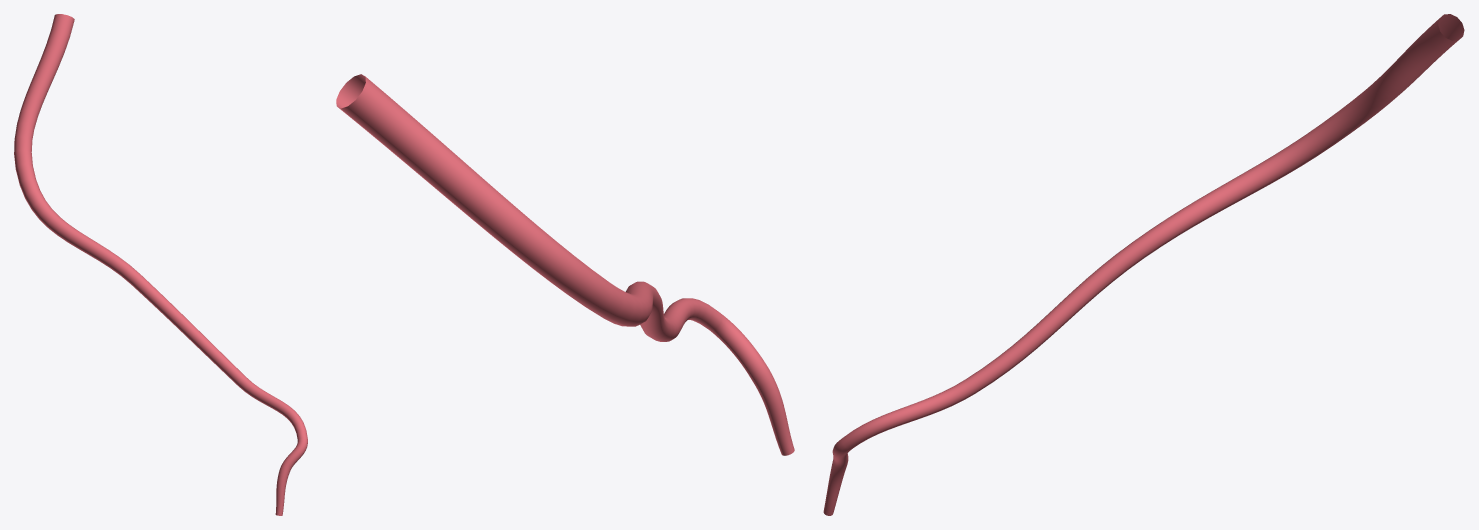
3 views of the same model, side by side, from view 1: azimuth 30°, elevation 25°; view 2: azimuth 150°, elevation 25°; view 3: azimuth 270°, elevation 25° (orthographic). The views are drawn at different scales.
Visible parts, largest first — view 1: ZA_7803f0b04026fef3; view 2: ZA_7803f0b04026fef3; view 3: ZA_7803f0b04026fef3.
Part boxes in pixels (x1,y1,x2,y2): ZA_7803f0b04026fef3: [14, 14, 307, 515]; ZA_7803f0b04026fef3: [336, 74, 794, 455]; ZA_7803f0b04026fef3: [823, 14, 1464, 515].
Bounding box in the file's own units: 0.0163 × 0.0436 × 0.0509.
